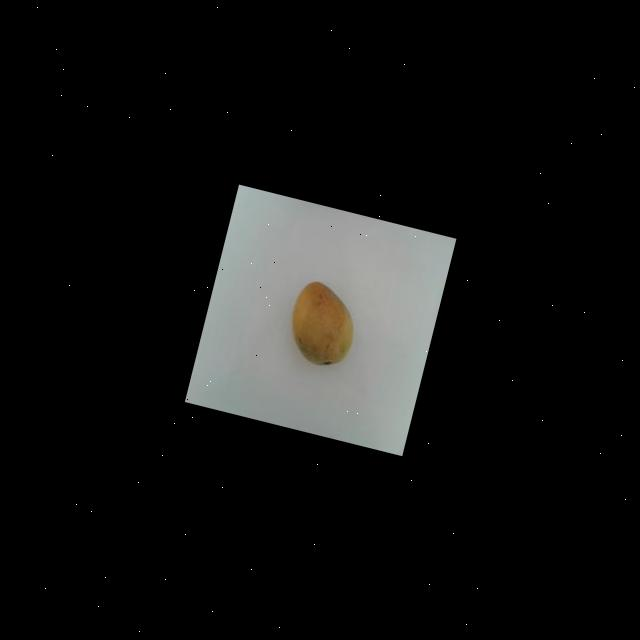Mango: (280, 276, 364, 370)
